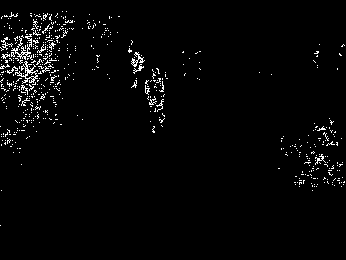person: (142, 67, 166, 133)
